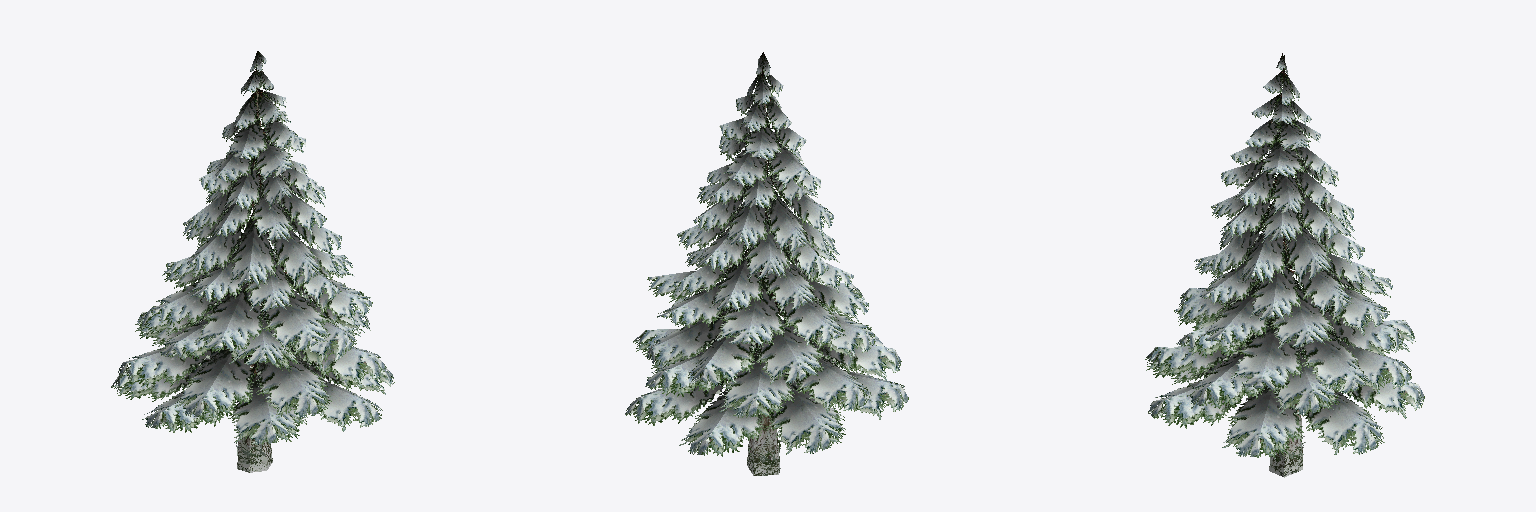
The picture shows the model from 3 angles: view 1: azimuth 30°, elevation 25°; view 2: azimuth 150°, elevation 25°; view 3: azimuth 270°, elevation 25°; orthographic projection.
Parts seen in each view (by area): view 1: C1SN_PINEASN; view 2: C1SN_PINEASN; view 3: C1SN_PINEASN.
Boxes of the visible parts, x1,y1,x2,y2 form: C1SN_PINEASN: [111, 51, 394, 472]; C1SN_PINEASN: [625, 52, 908, 475]; C1SN_PINEASN: [1145, 53, 1424, 477].
Bounding box in the file's own units: 16.6 × 26.91 × 16.81.
2 materials, 2 textured.